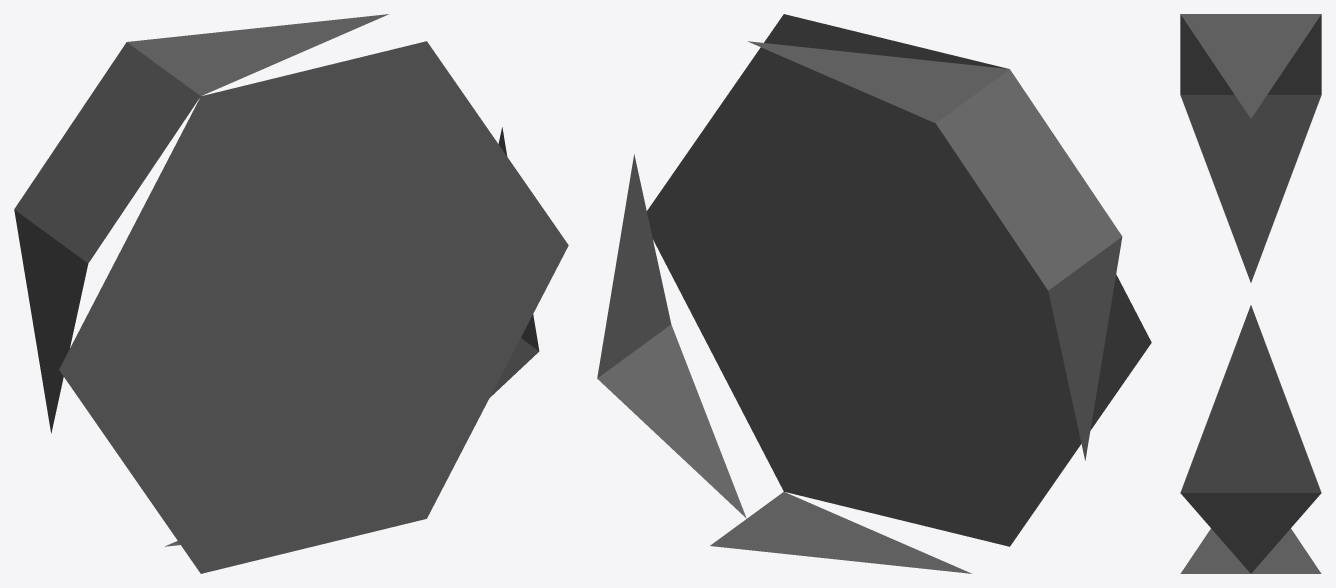
Rendered from Wheel-0.5.gltf.
3 views of the same model, side by side, from view 1: azimuth 30°, elevation 25°; view 2: azimuth 150°, elevation 25°; view 3: azimuth 270°, elevation 25° (orthographic). The views are drawn at different scales.
Visible parts, largest first — view 1: Wheel; view 2: Wheel; view 3: Wheel.
Boxes of the visible parts, bbox=[...] form: Wheel: bbox=[14, 14, 568, 573]; Wheel: bbox=[597, 14, 1151, 573]; Wheel: bbox=[1180, 14, 1321, 573].
Size of the model in its own units: 0.0138 by 0.0123 by 0.00347.
Materials: 1 (1 with a texture image).
